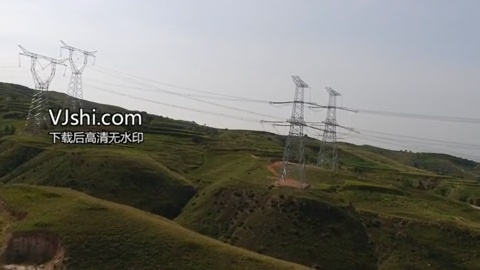tower_body: (12, 42, 74, 137), (277, 69, 316, 187), (313, 80, 351, 175)
tower_foot: (24, 101, 53, 136), (277, 160, 309, 184), (315, 149, 338, 171)
tower_head: (20, 48, 70, 89), (287, 71, 314, 91), (321, 84, 345, 96)
